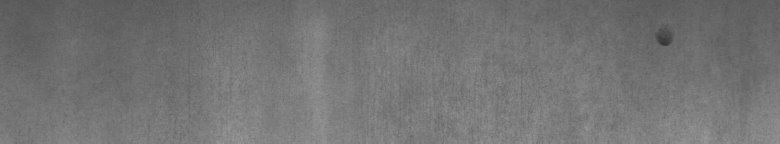fi: (653, 28, 676, 52)
